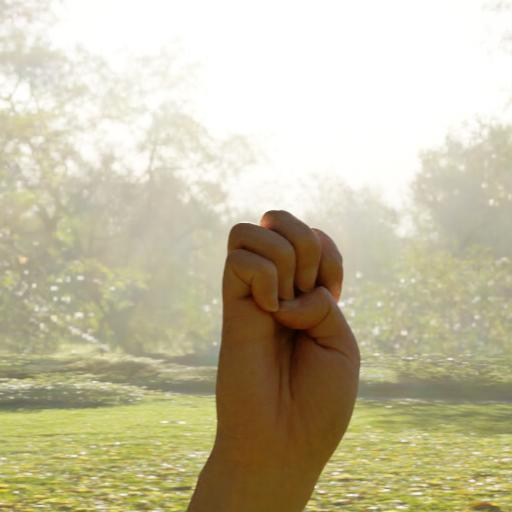E: (208, 186, 383, 462)
